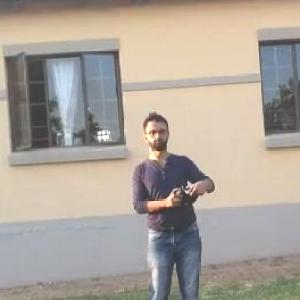follow: (126, 106, 226, 299)
